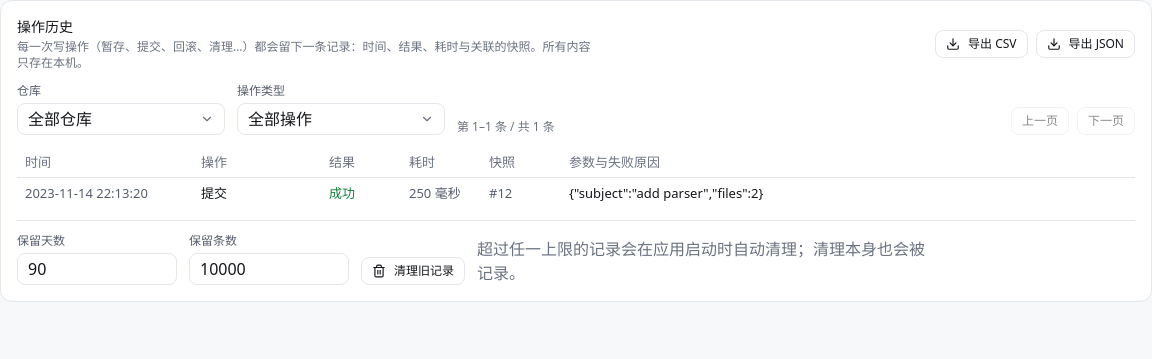
AuditHistoryPanel › 导出先让用户选位置，再把选定的路径交给后端
Expected: the text "提交" is shown, [193, 178, 321, 208]
Click the button "导出 CSV". click: (981, 44)
box: [935, 30, 1028, 58]
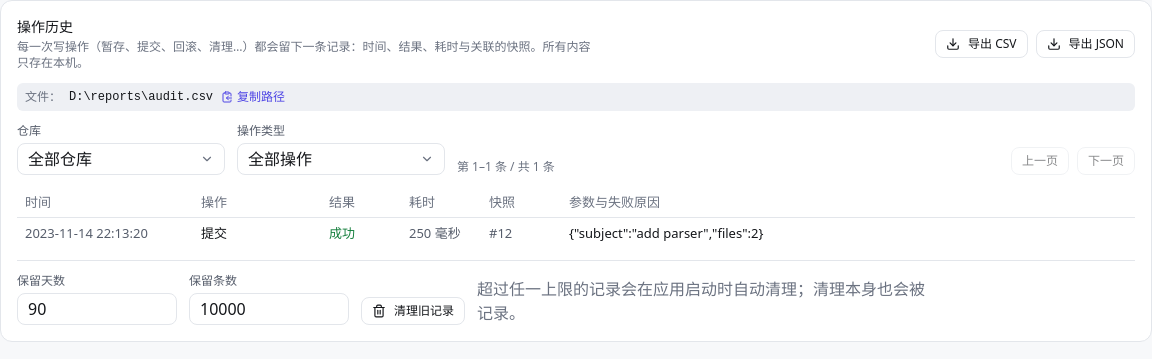
Now the text "D:\\reports\\audit.csv" is shown, box [69, 89, 213, 105]
